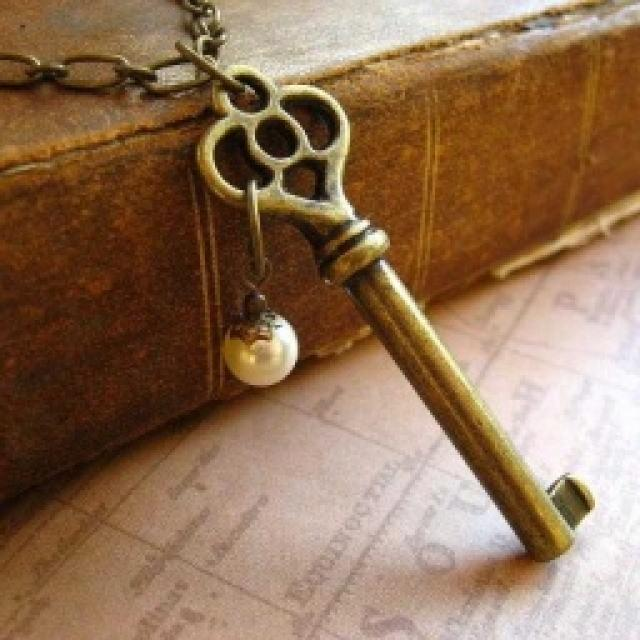anahtar: (190, 57, 600, 608)
